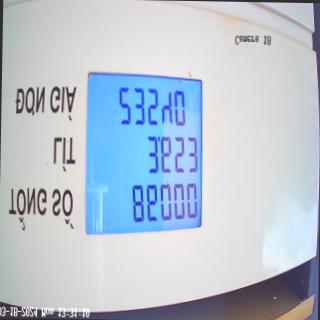screen: (81, 70, 206, 242)
